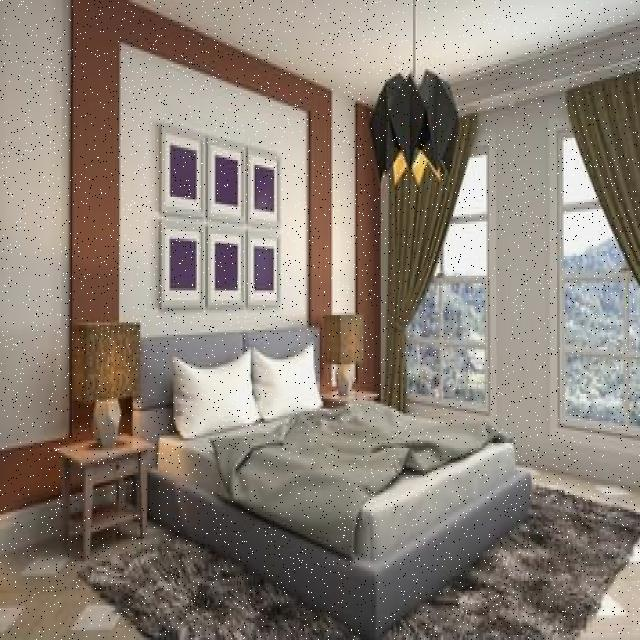bed: (164, 341, 516, 564)
